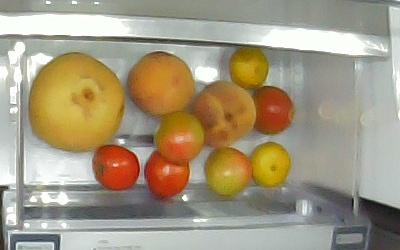peach: (190, 82, 257, 149), (127, 51, 193, 118)
pear: (27, 51, 124, 152)
tangerine: (250, 141, 290, 186), (229, 46, 268, 88)
tomato: (153, 111, 203, 166), (205, 148, 253, 195), (143, 149, 189, 198), (93, 144, 139, 190), (252, 85, 294, 135)
